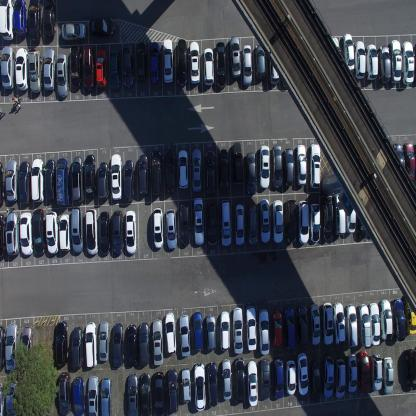car: (84, 207, 98, 256), (20, 325, 34, 373), (5, 322, 19, 370), (56, 158, 70, 206), (5, 212, 20, 256), (1, 46, 16, 90), (44, 210, 58, 256), (28, 48, 42, 94), (219, 198, 232, 247), (178, 200, 192, 245), (71, 156, 84, 204), (110, 152, 123, 200), (82, 44, 95, 92), (28, 0, 42, 44), (192, 195, 204, 246), (71, 206, 84, 253), (32, 208, 45, 255), (392, 298, 406, 341), (231, 140, 243, 190), (194, 362, 206, 412), (150, 150, 163, 196), (392, 141, 405, 187), (214, 40, 226, 89), (176, 38, 188, 87), (205, 200, 218, 245), (345, 303, 358, 348), (403, 290, 416, 335), (31, 158, 44, 203), (401, 40, 414, 85), (229, 34, 242, 79), (56, 53, 69, 98), (234, 356, 246, 404), (246, 359, 258, 407), (0, 0, 14, 41), (71, 326, 84, 370), (164, 312, 177, 356), (358, 304, 371, 348), (380, 298, 393, 342), (58, 372, 71, 416), (19, 212, 32, 256), (5, 159, 18, 203), (18, 161, 31, 205), (333, 192, 346, 236), (121, 44, 134, 88), (88, 16, 114, 38), (69, 45, 82, 89), (43, 47, 56, 91), (204, 148, 216, 195), (85, 322, 97, 369), (258, 308, 270, 355), (258, 197, 270, 244), (356, 195, 368, 242), (56, 320, 68, 366), (112, 322, 124, 368), (284, 306, 296, 352), (297, 199, 309, 245), (15, 46, 27, 92), (165, 207, 178, 249), (164, 148, 176, 193), (258, 144, 270, 189), (138, 322, 150, 367), (322, 301, 334, 346), (334, 301, 346, 346), (368, 301, 380, 346), (167, 368, 179, 413), (125, 210, 137, 255), (112, 210, 124, 255), (272, 199, 284, 244), (285, 198, 297, 243), (13, 0, 27, 38), (218, 148, 230, 192), (179, 313, 191, 357), (152, 206, 164, 250), (126, 323, 138, 367), (152, 318, 163, 366), (232, 307, 243, 355), (297, 352, 309, 396), (358, 349, 370, 393), (309, 142, 320, 190), (188, 40, 200, 84), (100, 376, 113, 416), (87, 375, 100, 415), (403, 141, 416, 181), (60, 22, 86, 42), (207, 361, 218, 408), (220, 358, 232, 401), (309, 303, 321, 346), (322, 355, 334, 398), (295, 143, 307, 186), (328, 35, 340, 78), (191, 146, 202, 192), (245, 305, 256, 351), (297, 303, 308, 349), (309, 361, 321, 403), (5, 379, 19, 415), (138, 154, 150, 196), (162, 38, 173, 83), (370, 353, 383, 391), (43, 0, 56, 38), (354, 39, 366, 80), (342, 32, 354, 73), (246, 150, 257, 194), (127, 372, 138, 416), (99, 211, 110, 255), (85, 154, 96, 198), (322, 196, 333, 240), (390, 38, 401, 82), (268, 41, 279, 85), (254, 43, 267, 80), (334, 358, 346, 398), (72, 376, 84, 416), (58, 213, 70, 253), (378, 44, 390, 84), (95, 50, 107, 90), (234, 202, 245, 245), (271, 145, 282, 188), (405, 347, 416, 390), (140, 372, 151, 415), (382, 356, 394, 395), (247, 203, 258, 245), (273, 357, 284, 399), (124, 160, 135, 202), (149, 42, 160, 84), (136, 40, 147, 82), (346, 188, 356, 234), (180, 366, 192, 404), (109, 52, 121, 90), (192, 311, 203, 352), (260, 357, 270, 401), (346, 353, 357, 393), (154, 371, 164, 415), (45, 158, 55, 202), (283, 146, 294, 186), (366, 43, 378, 79), (220, 309, 230, 352), (242, 44, 252, 87), (98, 161, 109, 200), (203, 47, 214, 86), (99, 321, 109, 363), (178, 148, 188, 189), (285, 359, 296, 396), (206, 313, 216, 353), (310, 203, 320, 243), (272, 310, 282, 348), (0, 213, 6, 258), (0, 326, 5, 373), (0, 162, 5, 207), (0, 381, 5, 415)
